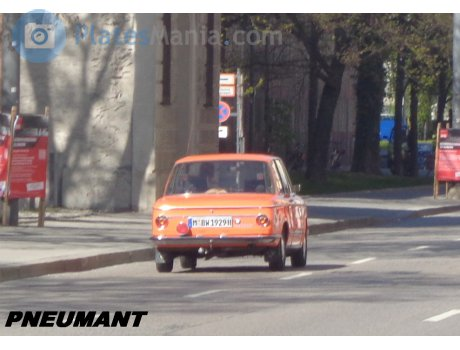License Plates: (190, 217, 228, 223)
